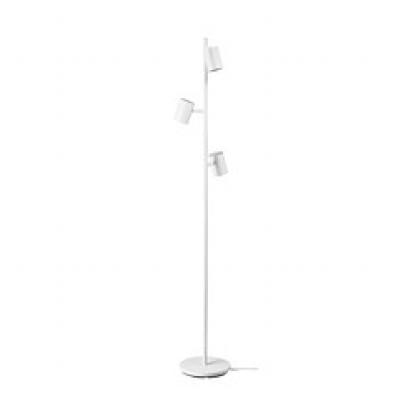Lamp: (146, 35, 256, 389)
